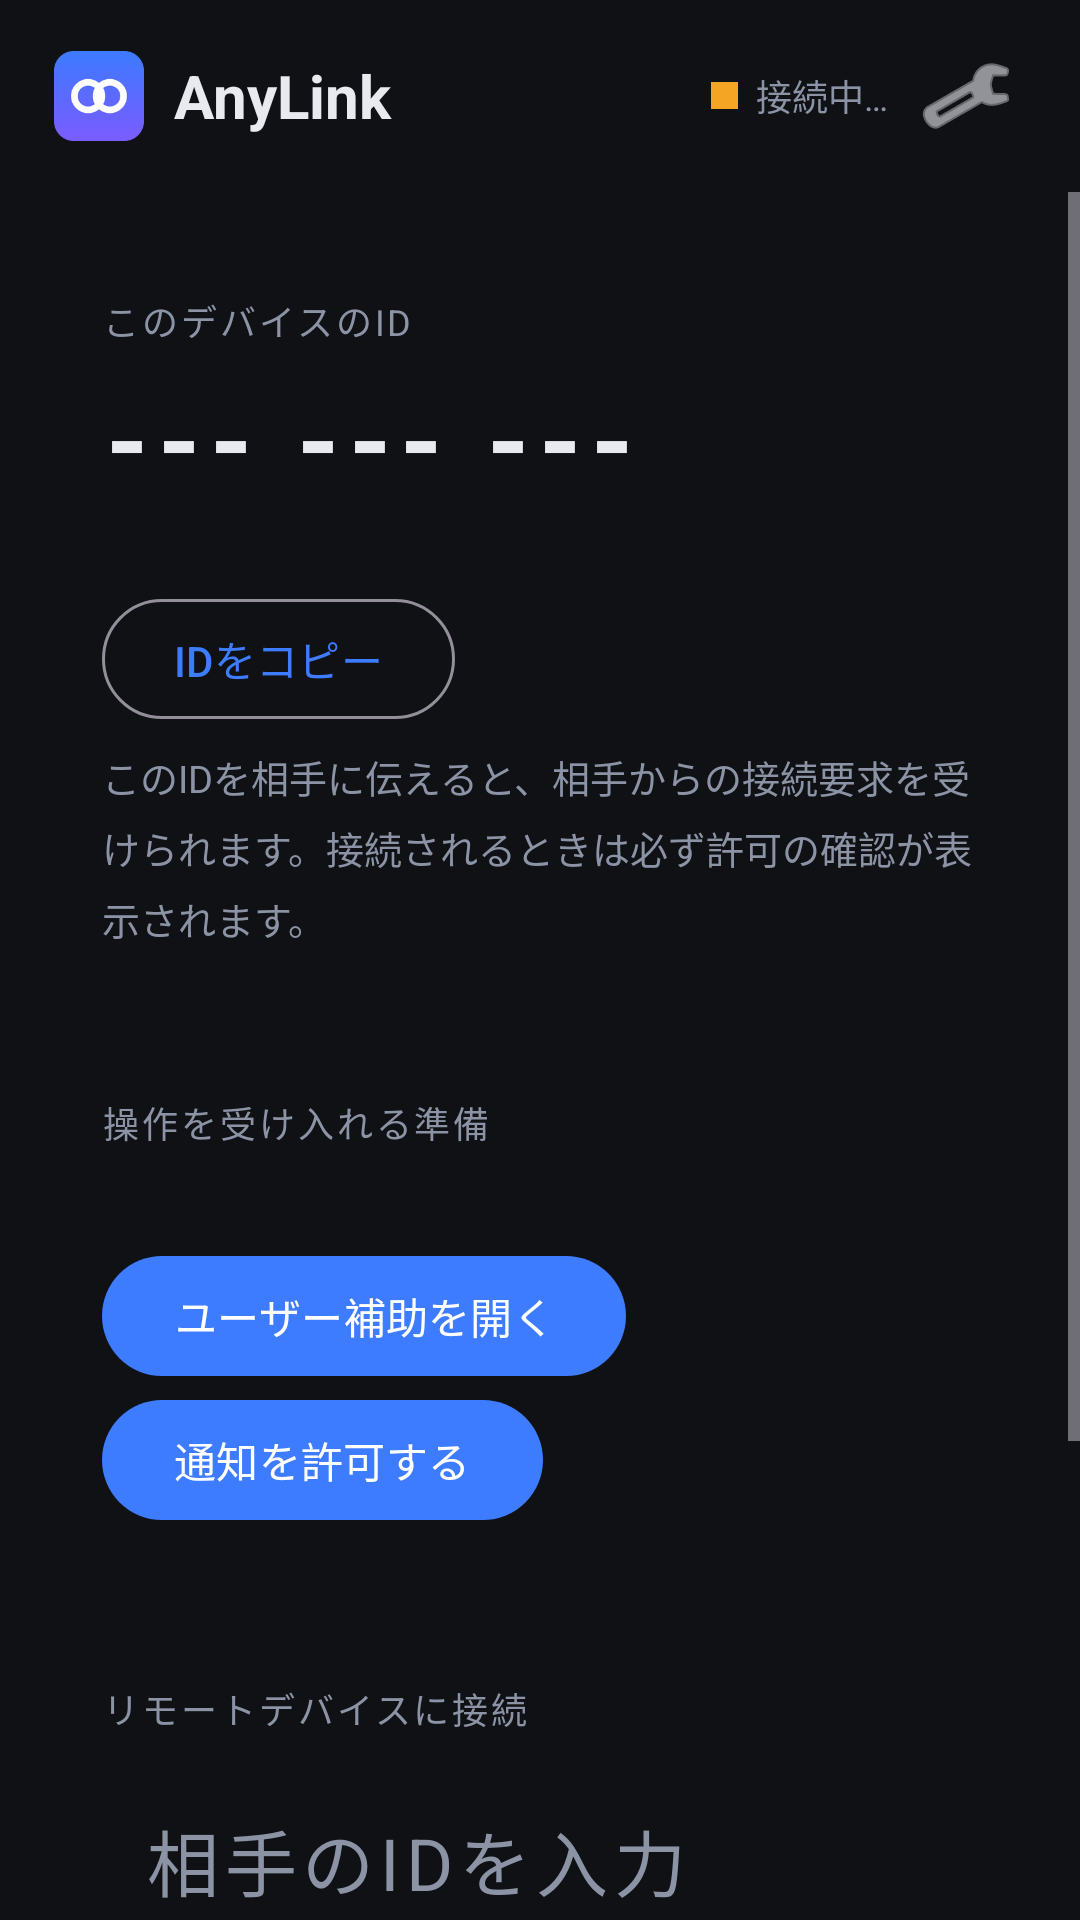

Point at icon controls on the screen. Image size 1080w x 1920h, points as (x=x, y=y).
設定: (x=966, y=96)
